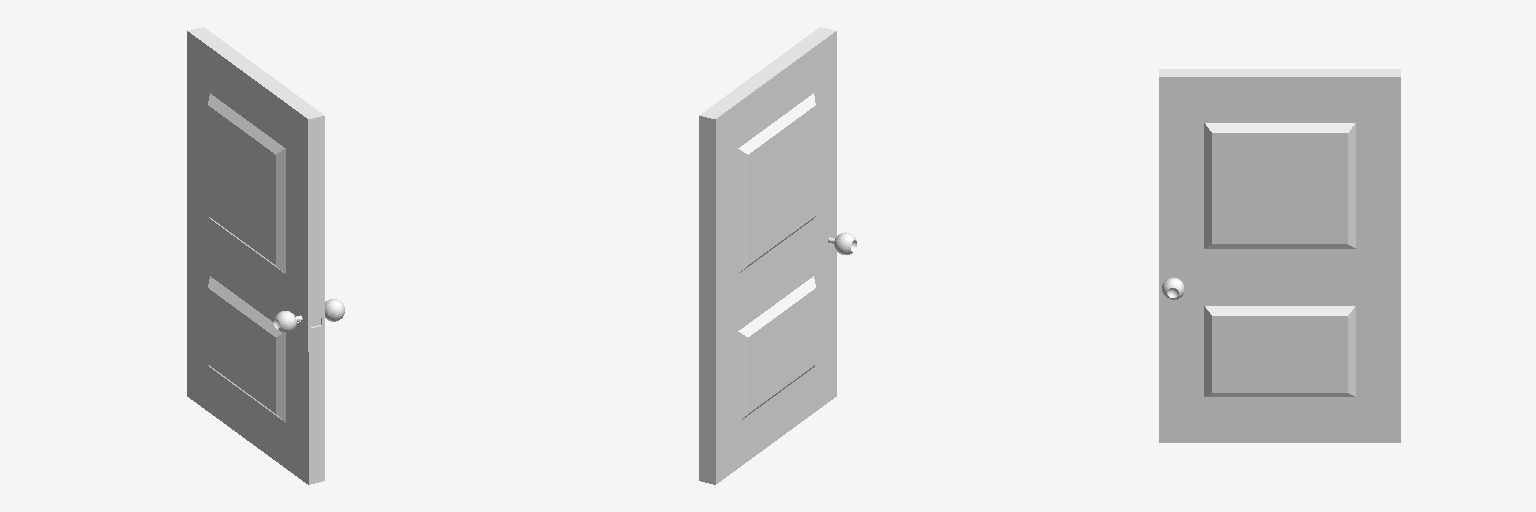
Rendered from dver.obj.
3 renders of one model, left to right at view 1: azimuth 30°, elevation 25°; view 2: azimuth 150°, elevation 25°; view 3: azimuth 270°, elevation 25°, orthographic.
Visible parts, largest first — view 1: Box002; view 2: Box002; view 3: Box002.
Part boxes in pixels (x1,y1,x2,y2): Box002: (187,27,344,484); Box002: (699,27,856,484); Box002: (1159,69,1400,442).
Bounding box in the file's own units: 25.9 × 139 × 83.36.